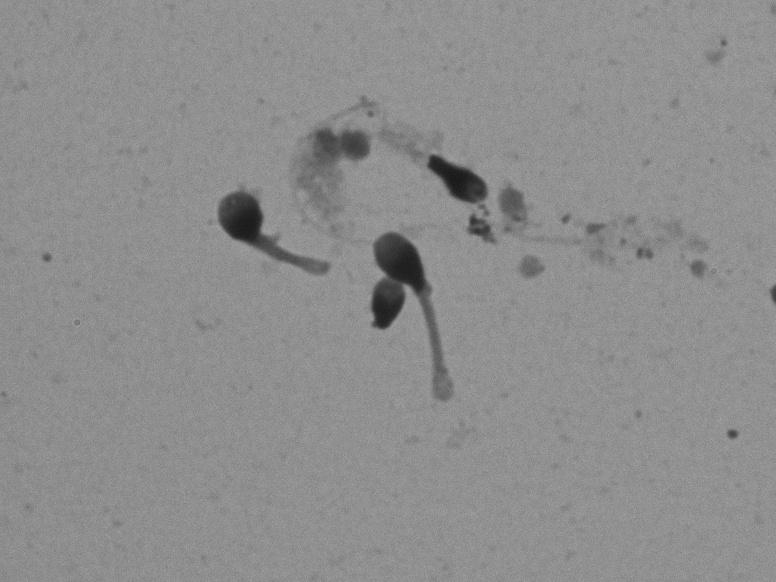Abnormal: (348, 88, 535, 220), (183, 155, 337, 308), (350, 226, 463, 433)
